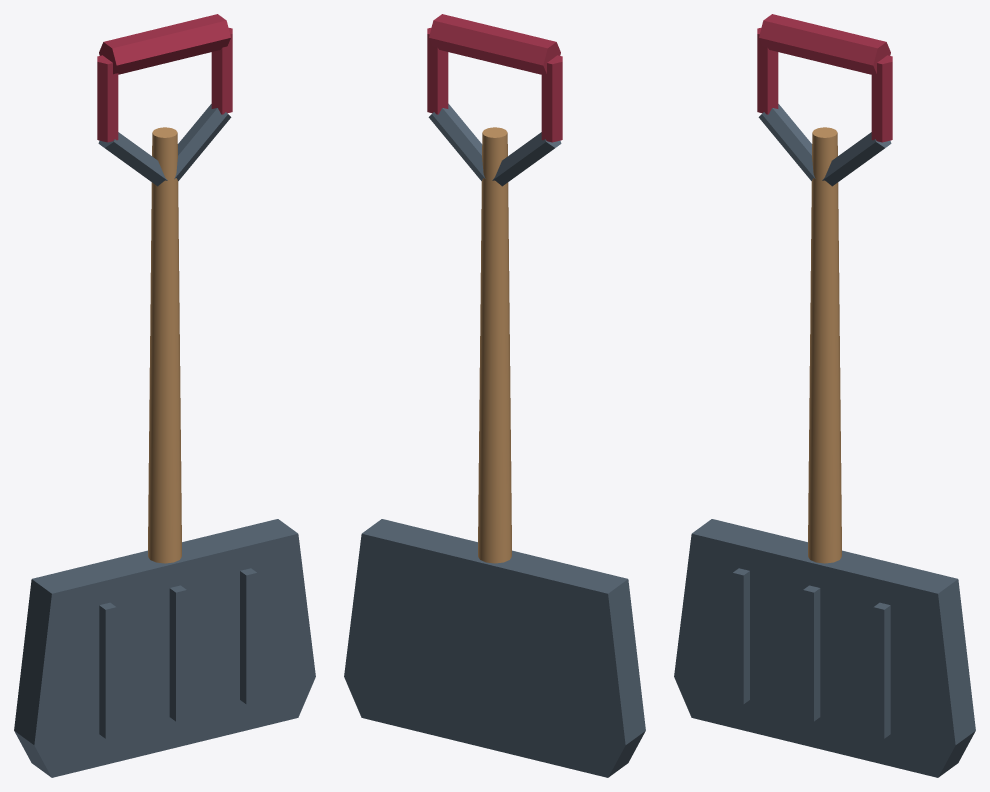
File: alpine-snow-village-ribbed-snow-shovel-a986affd__19819.glb
3 renders of one model, left to right at view 1: azimuth 30°, elevation 25°; view 2: azimuth 150°, elevation 25°; view 3: azimuth 330°, elevation 25°, orthographic.
Parts seen in each view (by area): view 1: ribbed-snow-shovel-iron, ribbed-snow-shovel-oak, ribbed-snow-shovel-berry; view 2: ribbed-snow-shovel-iron, ribbed-snow-shovel-oak, ribbed-snow-shovel-berry; view 3: ribbed-snow-shovel-iron, ribbed-snow-shovel-oak, ribbed-snow-shovel-berry.
Part boxes in pixels (bbox=[...]): ribbed-snow-shovel-iron: bbox=[14, 104, 315, 777]; ribbed-snow-shovel-oak: bbox=[148, 127, 181, 563]; ribbed-snow-shovel-berry: bbox=[97, 14, 232, 142]; ribbed-snow-shovel-iron: bbox=[344, 103, 645, 777]; ribbed-snow-shovel-oak: bbox=[478, 127, 511, 563]; ribbed-snow-shovel-berry: bbox=[427, 14, 562, 142]; ribbed-snow-shovel-iron: bbox=[674, 104, 975, 777]; ribbed-snow-shovel-oak: bbox=[808, 127, 841, 563]; ribbed-snow-shovel-berry: bbox=[757, 14, 892, 142].
Size of the model in its own units: 0.64 by 1.54 by 0.1046.
